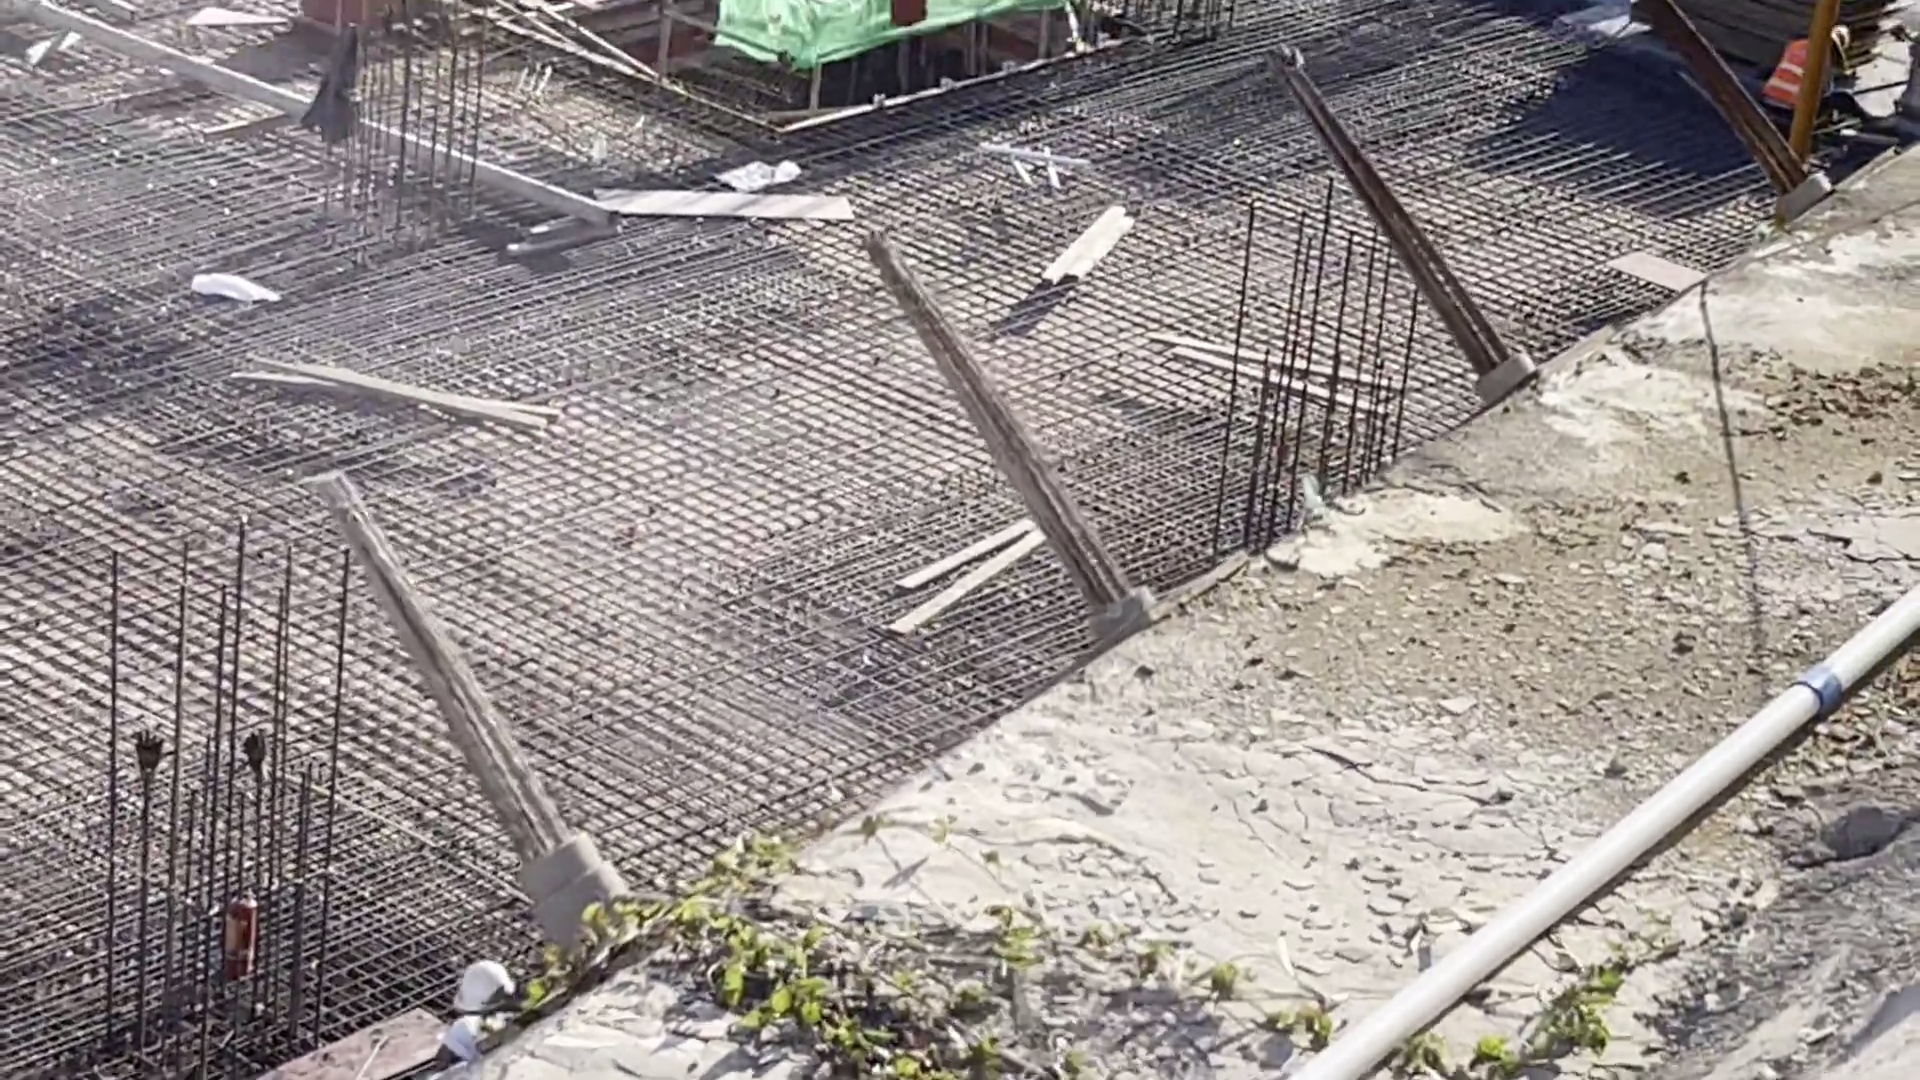helmet: (440, 1013, 513, 1060), (458, 963, 520, 1002), (1835, 23, 1854, 54)
person: (1755, 22, 1850, 131)
vest: (1753, 29, 1816, 108)
